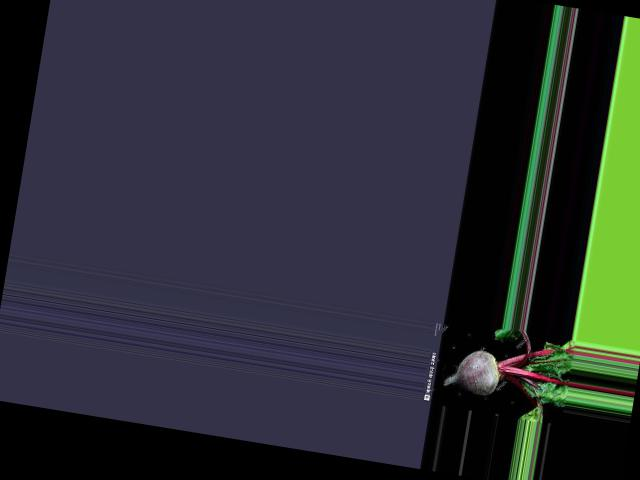beet: (440, 319, 576, 425)
